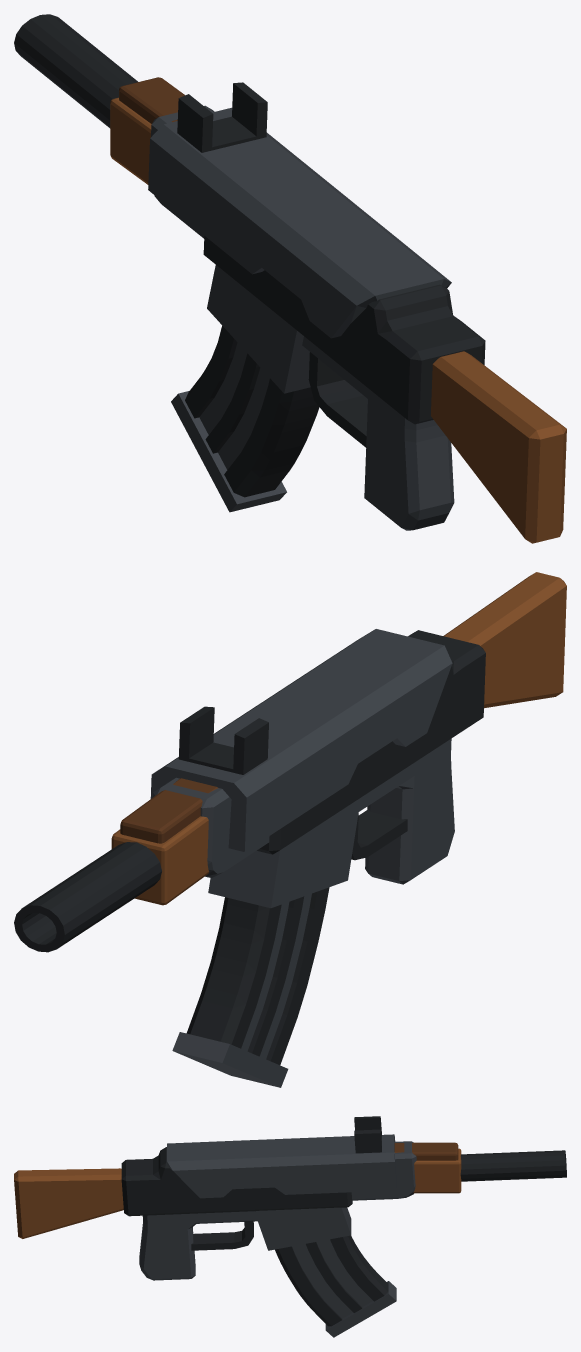
The picture shows the model from 3 angles, top to bottom: view 1: azimuth 30°, elevation 25°; view 2: azimuth 150°, elevation 25°; view 3: azimuth 270°, elevation 25°; orthographic projection. The views are drawn at different scales.
Visible parts, largest first — view 1: AK47, Handguard; view 2: AK47, Handguard; view 3: AK47, Handguard.
Part boxes in pixels (x1=…): AK47: x1=14, y1=14, x2=566, y2=543; Handguard: x1=110, y1=77, x2=184, y2=184; AK47: x1=14, y1=572, x2=566, y2=1087; Handguard: x1=111, y1=778, x2=217, y2=905; AK47: x1=14, y1=1116, x2=566, y2=1337; Handguard: x1=394, y1=1142, x2=461, y2=1193.
Bounding box in the file's own units: 0.0965 × 0.3727 × 0.9.
